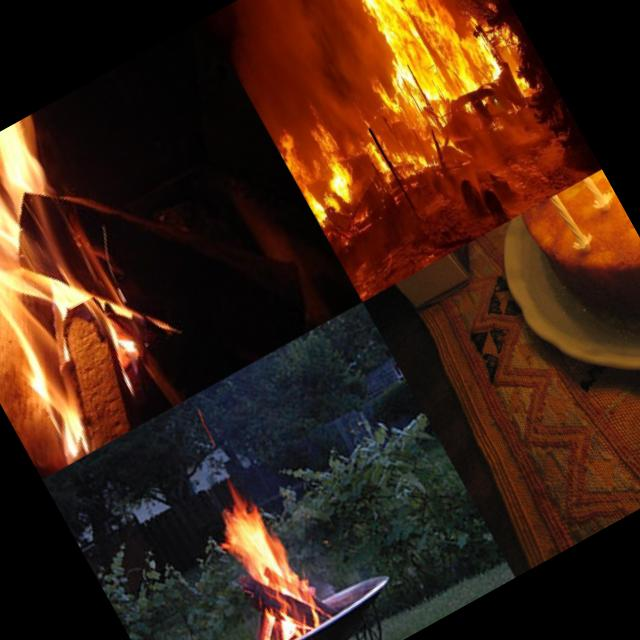fire: (0, 100, 215, 472), (325, 0, 505, 146), (195, 479, 329, 640), (332, 68, 448, 205), (264, 96, 376, 235), (456, 0, 541, 107)
smoke: (293, 15, 354, 99), (314, 0, 374, 60), (278, 0, 333, 20)
